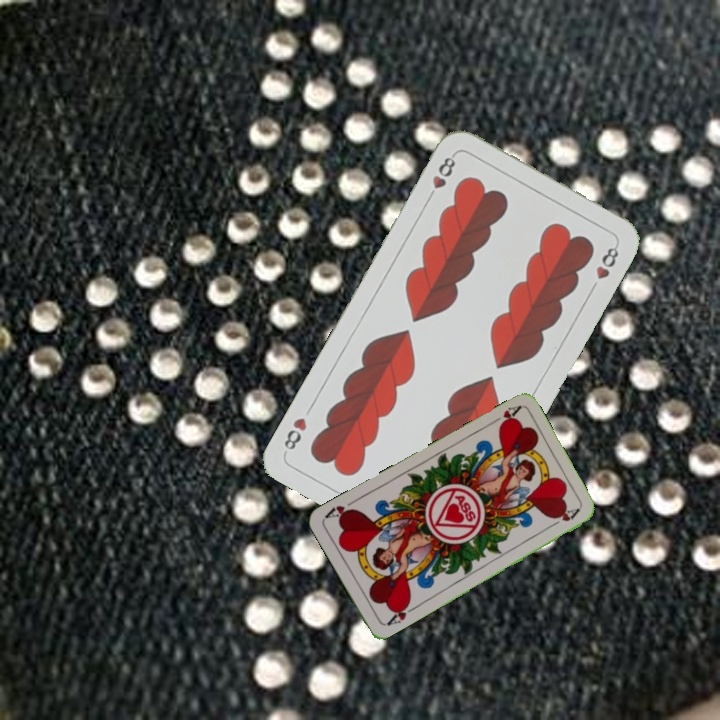H8: (423, 150, 458, 204)
HA: (485, 401, 523, 431), (382, 598, 419, 628)
